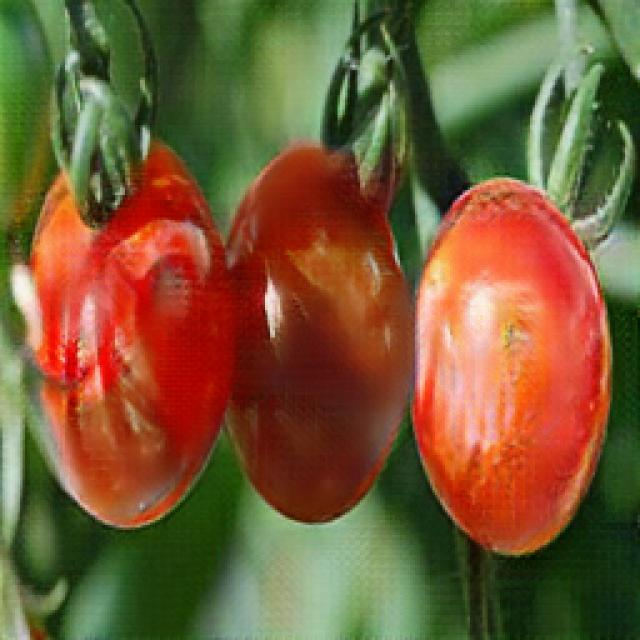overripe tomato: (27, 81, 239, 540), (410, 180, 615, 552)
